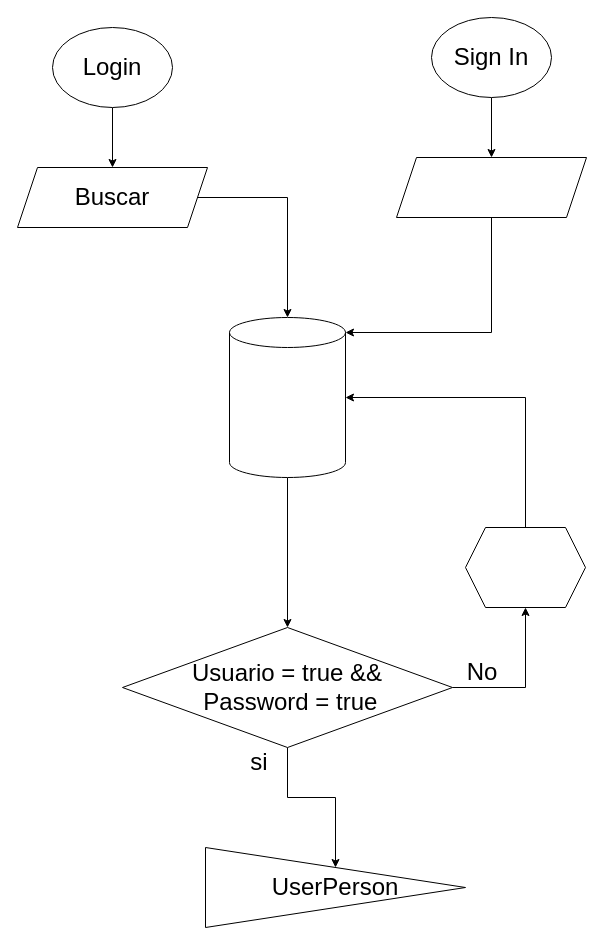
Some shapes in this 604 by 945 pixel diagram are drawn without their labels. The shapes that lost their labels are listed below. From the top down, each one's centre as x and y in pixels, then its label:
At pixel 491 187: "Almacenar".
At pixel 287 397: "BD".
At pixel 525 567: "Error".
